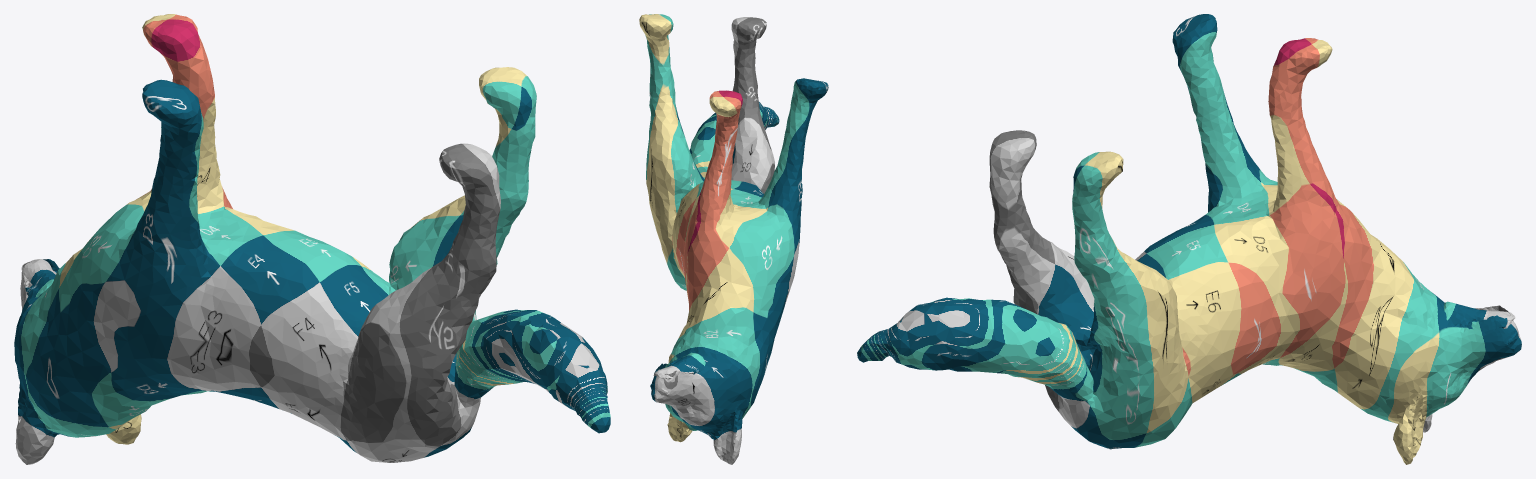
The model's file is cow_04-dog_01.obj.
3 renders of one model, left to right at view 1: azimuth 30°, elevation 25°; view 2: azimuth 150°, elevation 25°; view 3: azimuth 270°, elevation 25°, orthographic. The views are drawn at different scales.
Visible parts, largest first — view 1: cow_04-dog_01_export; view 2: cow_04-dog_01_export; view 3: cow_04-dog_01_export.
Boxes of the visible parts, <box> form: cow_04-dog_01_export: <box>14,14,610,464</box>; cow_04-dog_01_export: <box>639,14,828,464</box>; cow_04-dog_01_export: <box>857,14,1521,464</box>.
Size of the model in its own units: 0.5287 by 0.7141 by 1.03.
